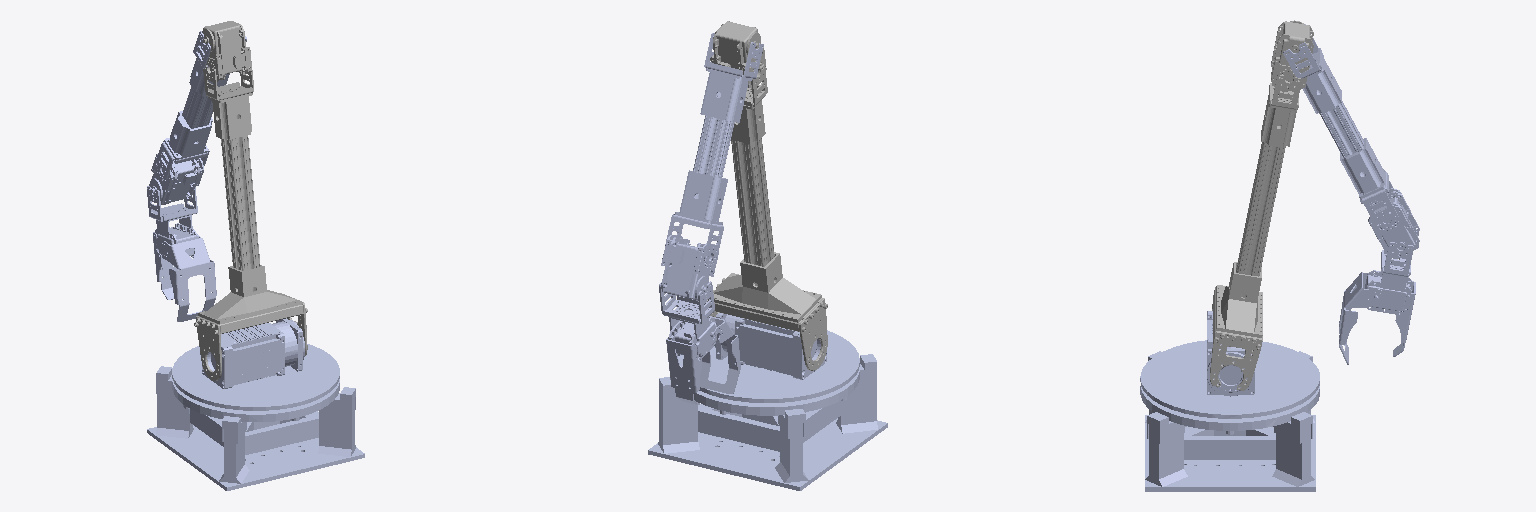
robot.urdf — Robotic_Arm:
<?xml version="1.0" encoding="utf-8"?>
<!-- This URDF was automatically created by SolidWorks to URDF Exporter! Originally created by [author] ([email redacted]) 
     Commit Version: 1.5.0-0-g9aa0fdb  Build Version: 1.5.7004.21443
     For more information, please see http://wiki.ros.org/sw_urdf_exporter -->
<robot
  name="Robotic_Arm">
  <link
    name="base_link">
    <inertial>
      <origin
        xyz="0.077471 -0.13294 0.11201"
        rpy="0 0 0" />
      <mass
        value="0.74796" />
      <inertia
        ixx="0.0022573"
        ixy="2.2339E-07"
        ixz="-8.1079E-08"
        iyy="0.0022579"
        iyz="-1.057E-07"
        izz="0.0039789" />
    </inertial>
    <visual>
      <origin
        xyz="0 0 0"
        rpy="0 0 0" />
      <geometry>
        <mesh
          filename="package://Robotic_Arm/meshes/base_link.STL" />
      </geometry>
      <material
        name="">
        <color
          rgba="0.79216 0.81961 0.93333 1" />
      </material>
    </visual>
    <collision>
      <origin
        xyz="0 0 0"
        rpy="0 0 0" />
      <geometry>
        <mesh
          filename="package://Robotic_Arm/meshes/base_link.STL" />
      </geometry>
    </collision>
  </link>
  <link
    name="arm_link_1">
    <inertial>
      <origin
        xyz="-0.0023986 0.021961 -0.00036542"
        rpy="0 0 0" />
      <mass
        value="0.44911" />
      <inertia
        ixx="0.00052376"
        ixy="1.1533E-09"
        ixz="-4.7849E-08"
        iyy="0.0011151"
        iyz="2.7992E-10"
        izz="0.00072274" />
    </inertial>
    <visual>
      <origin
        xyz="0 0 0"
        rpy="0 0 0" />
      <geometry>
        <mesh
          filename="package://Robotic_Arm/meshes/arm_link_1.STL" />
      </geometry>
      <material
        name="">
        <color
          rgba="0.79216 0.81961 0.93333 1" />
      </material>
    </visual>
    <collision>
      <origin
        xyz="0 0 0"
        rpy="0 0 0" />
      <geometry>
        <mesh
          filename="package://Robotic_Arm/meshes/arm_link_1.STL" />
      </geometry>
    </collision>
  </link>
  <joint
    name="arm_joint_1"
    type="continuous">
    <origin
      xyz="0.077663 -0.13275 0.16758"
      rpy="1.5708 0 0" />
    <parent
      link="base_link" />
    <child
      link="arm_link_1" />
    <axis
      xyz="0 1 0" />
    <limit
      lower="0"
      upper="3.14"
      effort="0"
      velocity="0" />
    <safety_controller
      k_velocity="0" />
  </joint>
  <link
    name="arm_link_2">
    <inertial>
      <origin
        xyz="-0.00050058 0.19252 -0.00026568"
        rpy="0 0 0" />
      <mass
        value="0.42193" />
      <inertia
        ixx="0.001191"
        ixy="-9.3857E-08"
        ixz="-3.6112E-07"
        iyy="0.00016587"
        iyz="-8.5846E-07"
        izz="0.0011224" />
    </inertial>
    <visual>
      <origin
        xyz="0 0 0"
        rpy="0 0 0" />
      <geometry>
        <mesh
          filename="package://Robotic_Arm/meshes/arm_link_2.STL" />
      </geometry>
      <material
        name="">
        <color
          rgba="0.75294 0.75294 0.75294 1" />
      </material>
    </visual>
    <collision>
      <origin
        xyz="0 0 0"
        rpy="0 0 0" />
      <geometry>
        <mesh
          filename="package://Robotic_Arm/meshes/arm_link_2.STL" />
      </geometry>
    </collision>
  </link>
  <joint
    name="arm_joint_2"
    type="continuous">
    <origin
      xyz="-0.0023104 0.032 -0.00054816"
      rpy="-1.5708 -1.3894 1.5708" />
    <parent
      link="arm_link_1" />
    <child
      link="arm_link_2" />
    <axis
      xyz="0 0 1" />
    <limit
      lower="0"
      upper="3.14"
      effort="0"
      velocity="0" />
    <safety_controller
      k_velocity="0" />
  </joint>
  <link
    name="arm_link_3">
    <inertial>
      <origin
        xyz="0.00088882 0.15812 0.00071071"
        rpy="0 0 0" />
      <mass
        value="0.25828" />
      <inertia
        ixx="0.00027832"
        ixy="-8.812E-07"
        ixz="-1.4423E-11"
        iyy="5.4616E-05"
        iyz="-8.6935E-09"
        izz="0.00029095" />
    </inertial>
    <visual>
      <origin
        xyz="0 0 0"
        rpy="0 0 0" />
      <geometry>
        <mesh
          filename="package://Robotic_Arm/meshes/arm_link_3.STL" />
      </geometry>
      <material
        name="">
        <color
          rgba="0.79216 0.81961 0.93333 1" />
      </material>
    </visual>
    <collision>
      <origin
        xyz="0 0 0"
        rpy="0 0 0" />
      <geometry>
        <mesh
          filename="package://Robotic_Arm/meshes/arm_link_3.STL" />
      </geometry>
    </collision>
  </link>
  <joint
    name="arm_joint_3"
    type="continuous">
    <origin
      xyz="-0.0011 0.391 0.0013878"
      rpy="2.5049 -1.5708 0" />
    <parent
      link="arm_link_2" />
    <child
      link="arm_link_3" />
    <axis
      xyz="1 0 0" />
    <limit
      lower="-0.65"
      upper=".2"
      effort="0"
      velocity="0" />
    <safety_controller
      k_velocity="0" />
  </joint>
  <link
    name="arm_link_4">
    <inertial>
      <origin
        xyz="0.00043251 0.065624 0.00078915"
        rpy="0 0 0" />
      <mass
        value="0.059133" />
      <inertia
        ixx="1.4968E-05"
        ixy="4.3637E-13"
        ixz="1.8275E-07"
        iyy="1.725E-05"
        iyz="-6.5009E-09"
        izz="1.5087E-05" />
    </inertial>
    <visual>
      <origin
        xyz="0 0 0"
        rpy="0 0 0" />
      <geometry>
        <mesh
          filename="package://Robotic_Arm/meshes/arm_link_4.STL" />
      </geometry>
      <material
        name="">
        <color
          rgba="0.79216 0.81961 0.93333 1" />
      </material>
    </visual>
    <collision>
      <origin
        xyz="0 0 0"
        rpy="0 0 0" />
      <geometry>
        <mesh
          filename="package://Robotic_Arm/meshes/arm_link_4.STL" />
      </geometry>
    </collision>
  </link>
  <joint
    name="arm_joint_4"
    type="continuous">
    <origin
      xyz="0.0034 0.2704 0.0011"
      rpy="0.63673 0 0" />
    <parent
      link="arm_link_3" />
    <child
      link="arm_link_4" />
    <axis
      xyz="1 0 0" />
    <safety_controller
      k_velocity="0" />
  </joint>
  <link
    name="arm_link_end">
    <inertial>
      <origin
        xyz="0.030016 -0.023618 0.0143"
        rpy="0 0 0" />
      <mass
        value="0.0085149" />
      <inertia
        ixx="3.6005E-06"
        ixy="5.6076E-07"
        ixz="-1.6478E-13"
        iyy="9.4274E-06"
        iyz="7.1464E-14"
        izz="6.9141E-06" />
    </inertial>
    <visual>
      <origin
        xyz="0 0 0"
        rpy="0 0 0" />
      <geometry>
        <mesh
          filename="package://Robotic_Arm/meshes/arm_link_end.STL" />
      </geometry>
      <material
        name="">
        <color
          rgba="0.79216 0.81961 0.93333 1" />
      </material>
    </visual>
    <collision>
      <origin
        xyz="0 0 0"
        rpy="0 0 0" />
      <geometry>
        <mesh
          filename="package://Robotic_Arm/meshes/arm_link_end.STL" />
      </geometry>
    </collision>
  </link>
  <joint
    name="arm_joint_end"
    type="continuous">
    <origin
      xyz="0.01755 0.0702 0.0155"
      rpy="-1.5708 0 1.5708" />
    <parent
      link="arm_link_4" />
    <child
      link="arm_link_end" />
    <axis
      xyz="0 0 1" />
    <safety_controller
      k_velocity="0" />
  </joint>
</robot>

--- Facts derived from the render (not from the file) ---
The picture shows the robot from 3 angles, left to right: view 1: azimuth 30°, elevation 25°; view 2: azimuth 150°, elevation 25°; view 3: azimuth 270°, elevation 25°; orthographic projection.
Robot: Robotic_Arm — 6 links, 5 joints (5 continuous); root link base_link; default pose: every joint at zero.
Visible links, largest first — view 1: base_link, arm_link_2, arm_link_1, arm_link_3, arm_link_4, arm_link_end; view 2: base_link, arm_link_2, arm_link_3, arm_link_1, arm_link_4, arm_link_end; view 3: base_link, arm_link_2, arm_link_1, arm_link_3, arm_link_4, arm_link_end.
Link boxes in pixels (left/top/right/bottom): base_link: left=147, top=366, right=364, bottom=490; arm_link_2: left=194, top=21, right=307, bottom=380; arm_link_1: left=172, top=318, right=339, bottom=410; arm_link_3: left=149, top=31, right=246, bottom=204; arm_link_4: left=147, top=186, right=198, bottom=299; arm_link_end: left=161, top=236, right=216, bottom=321; base_link: left=648, top=354, right=887, bottom=490; arm_link_2: left=707, top=21, right=827, bottom=370; arm_link_3: left=661, top=33, right=763, bottom=301; arm_link_1: left=678, top=313, right=859, bottom=402; arm_link_4: left=659, top=281, right=716, bottom=404; arm_link_end: left=700, top=316, right=740, bottom=393; base_link: left=1140, top=351, right=1319, bottom=491; arm_link_2: left=1210, top=20, right=1313, bottom=390; arm_link_1: left=1140, top=311, right=1319, bottom=418; arm_link_3: left=1283, top=24, right=1419, bottom=258; arm_link_4: left=1365, top=242, right=1415, bottom=356; arm_link_end: left=1339, top=272, right=1383, bottom=364.
Size in the robot's own frame: 0.2 by 0.3104 by 0.5232 metres.
6 mesh visuals loaded from 6 distinct referenced files (6 binary STL).